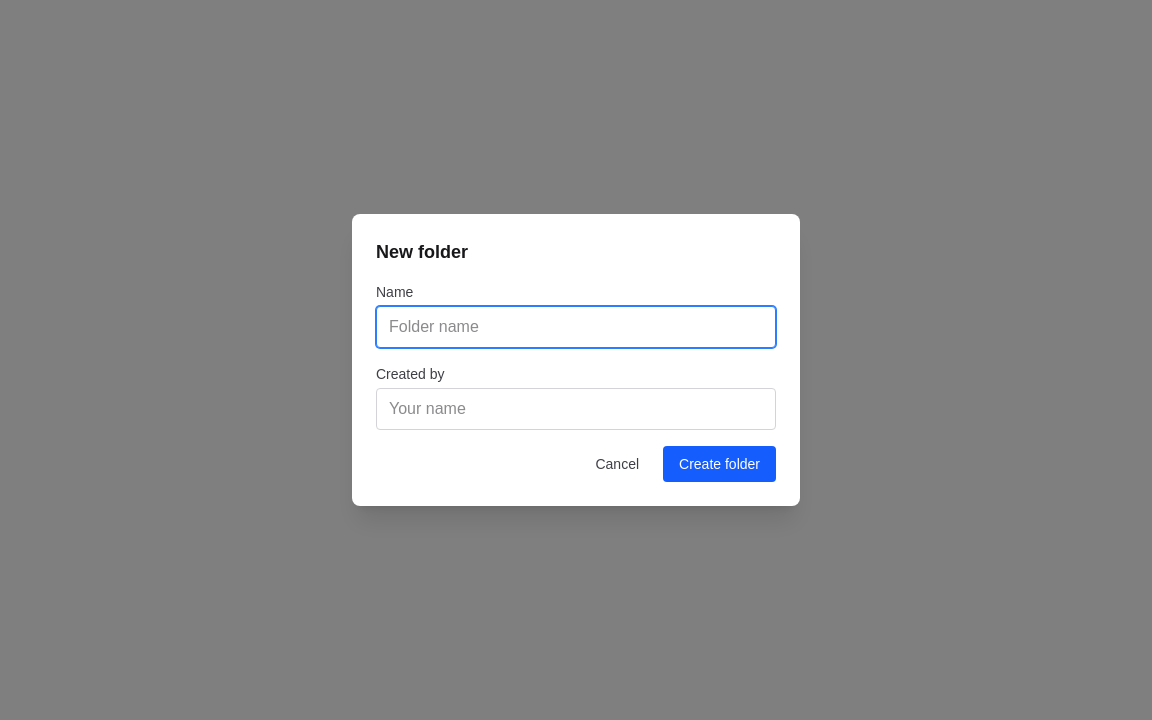
Test: AddFolderForm › shows error when folder name is empty
What coordinates should you click on to do the following:
click the button "Create folder"
I would click on:
 (720, 464)
Its box is [663,446,776,482].
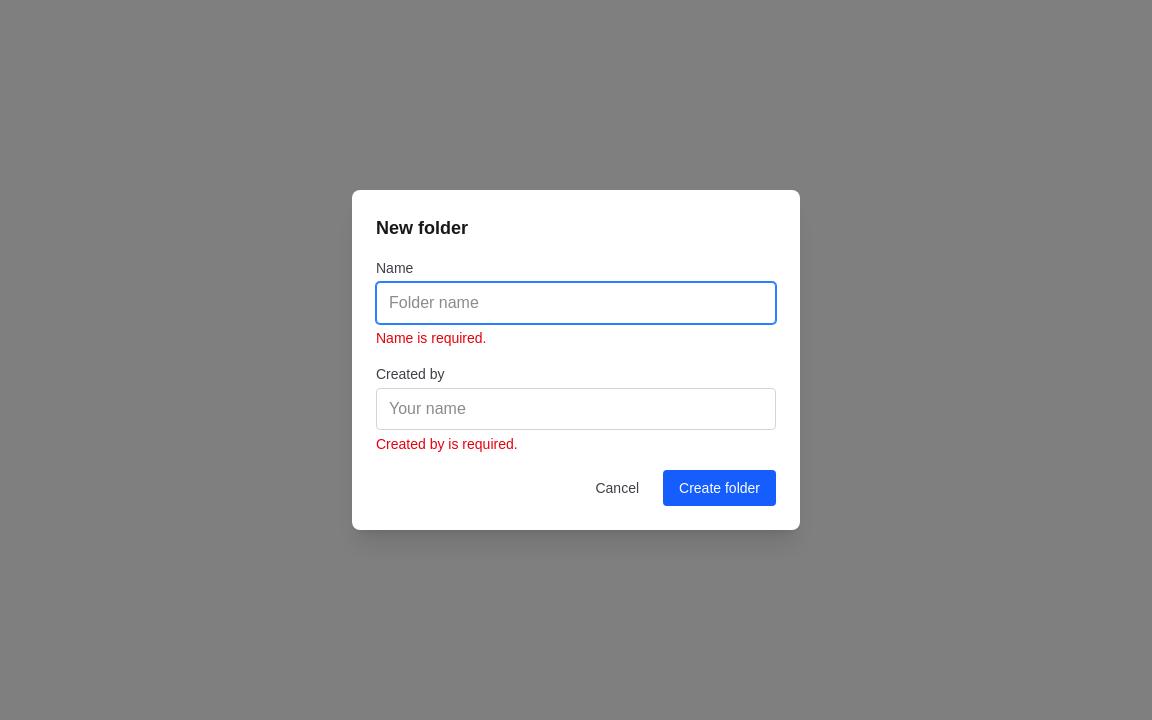
expect the text "Name is required." is shown: met, box [376,330,486,346]
